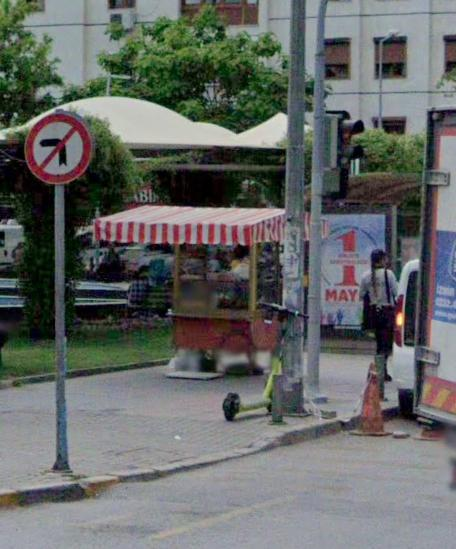leftturnsareforbidden: (24, 117, 92, 182)
